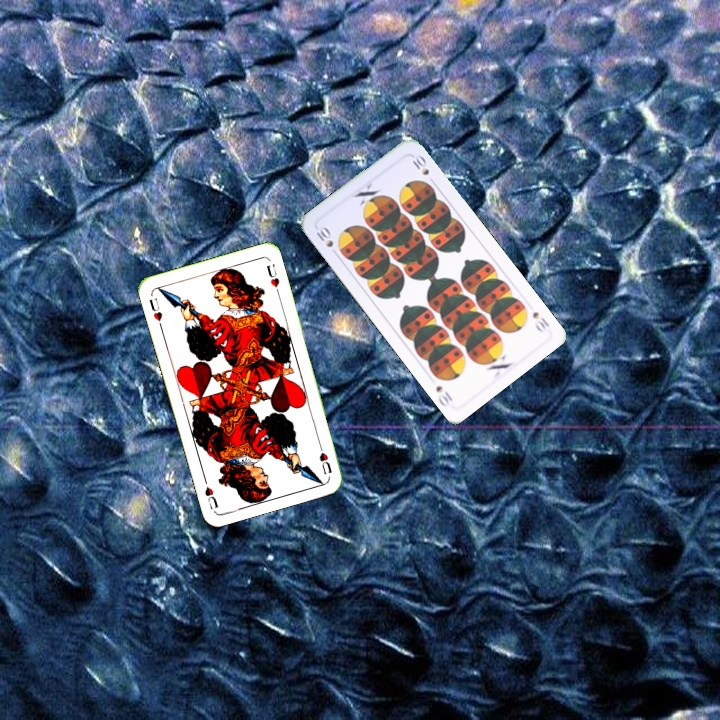HU: (315, 438, 334, 477), (145, 294, 165, 330)
S10: (310, 222, 341, 259), (528, 307, 552, 335)
